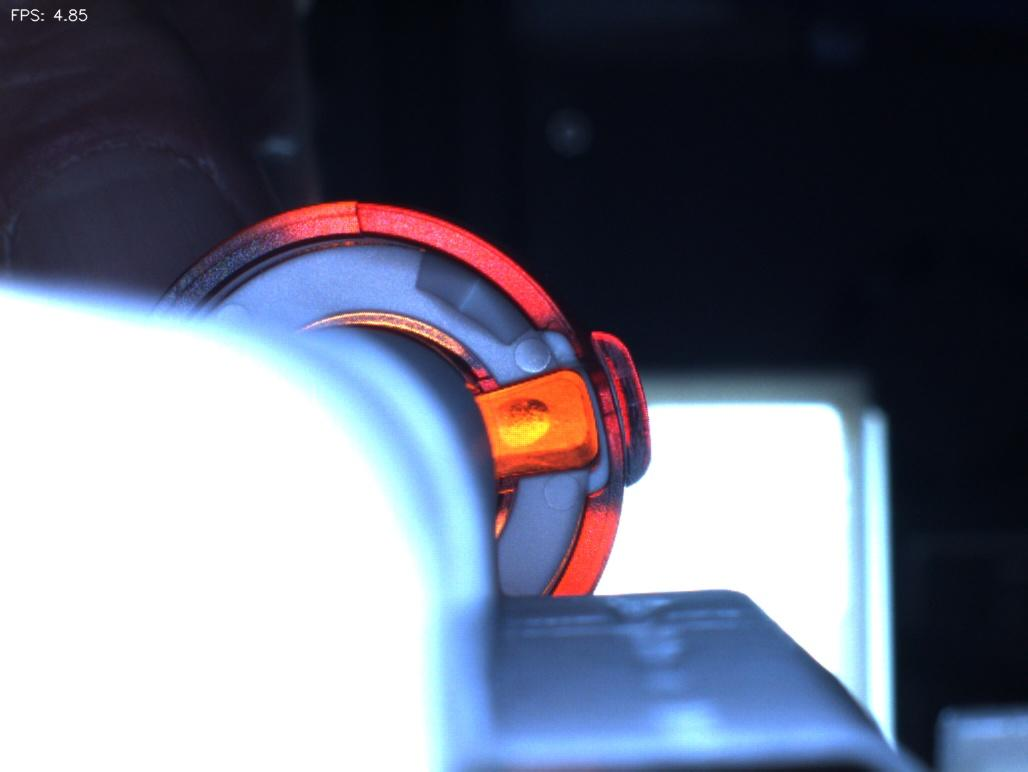Retassure: (476, 385, 564, 453)
